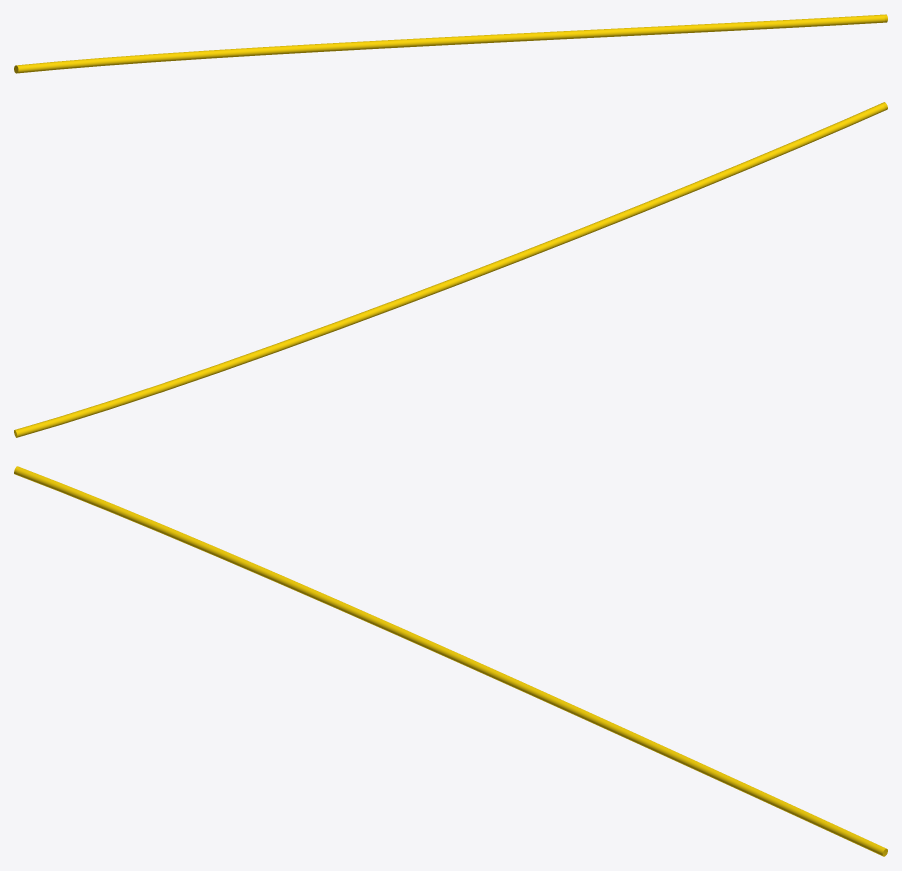
The model's file is Event_421115418_track_164.fbx.
3 renders of one model, top to bottom at view 1: azimuth 30°, elevation 25°; view 2: azimuth 210°, elevation 25°; view 3: azimuth 330°, elevation 25°, orthographic. The views are drawn at different scales.
Visible parts, largest first — view 1: Model; view 2: Model; view 3: Model.
Part boxes in pixels (x1,y1,x2,y2): Model: (14,14,887,73); Model: (14,102,887,437); Model: (14,466,887,856).
Size of the model in its own units: 4.78 by 0.7857 by 0.2841.
